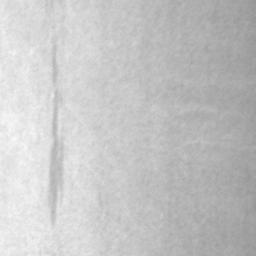Inclusion: (47, 108, 64, 223)
